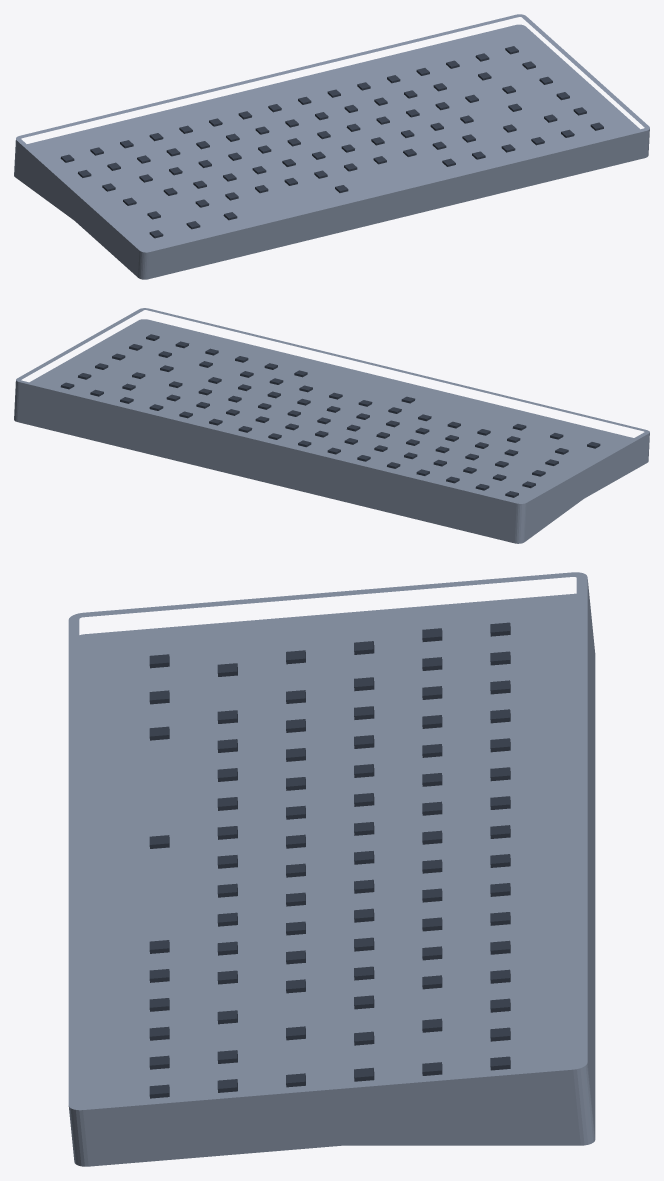
File: keychron-q1-qmk-custom-mechanical-keyboard-version-1.glb
3 views of the same model, one above another, from view 1: azimuth 30°, elevation 25°; view 2: azimuth 150°, elevation 25°; view 3: azimuth 270°, elevation 25° (orthographic). The views are drawn at different scales.
Parts seen in each view (by area): view 1: bottomCase/case-bottom, topCase/case-top, switches/switches; view 2: bottomCase/case-bottom, topCase/case-top, switches/switches; view 3: bottomCase/case-bottom, switches/switches, topCase/case-top.
Boxes of the visible parts, bbox=[...] form: bottomCase/case-bottom: bbox=[14, 14, 649, 269]; topCase/case-top: bbox=[15, 24, 648, 279]; switches/switches: bbox=[60, 46, 603, 238]; bottomCase/case-bottom: bbox=[14, 308, 649, 543]; topCase/case-top: bbox=[15, 319, 648, 533]; switches/switches: bbox=[60, 334, 600, 497]; bottomCase/case-bottom: bbox=[68, 572, 595, 1145]; switches/switches: bbox=[149, 622, 510, 1098]; topCase/case-top: bbox=[71, 594, 593, 1166].
Size of the model in its own units: 1.07e+07 by 999451 by 4802785.
